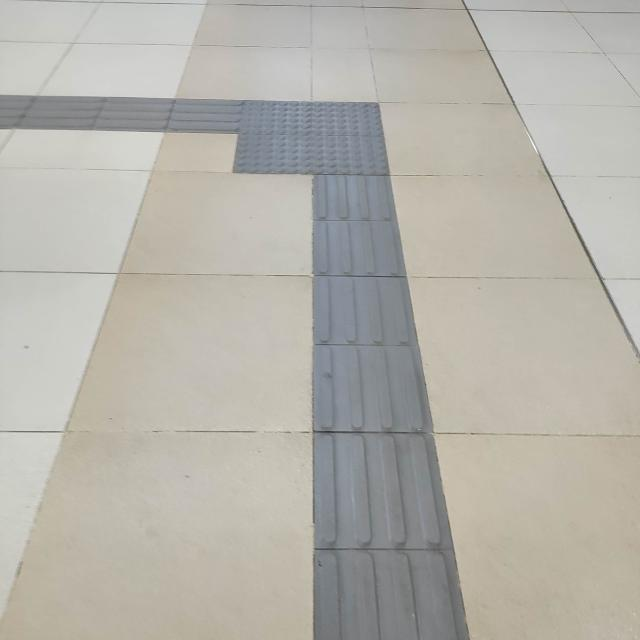kiri: (156, 63, 414, 225)
